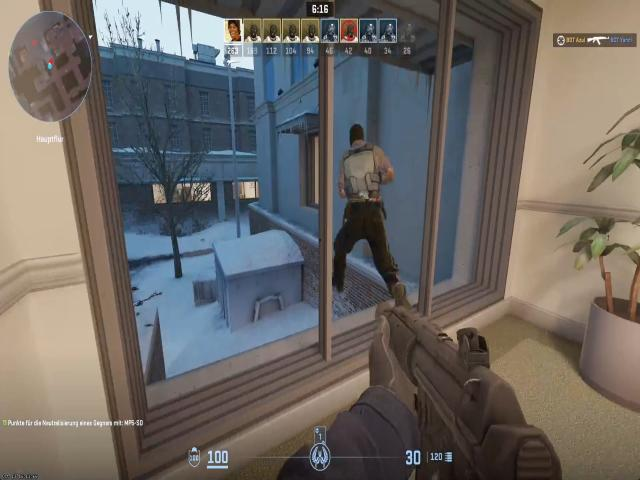T: (335, 140, 390, 213)
T-Head: (347, 122, 367, 155)
